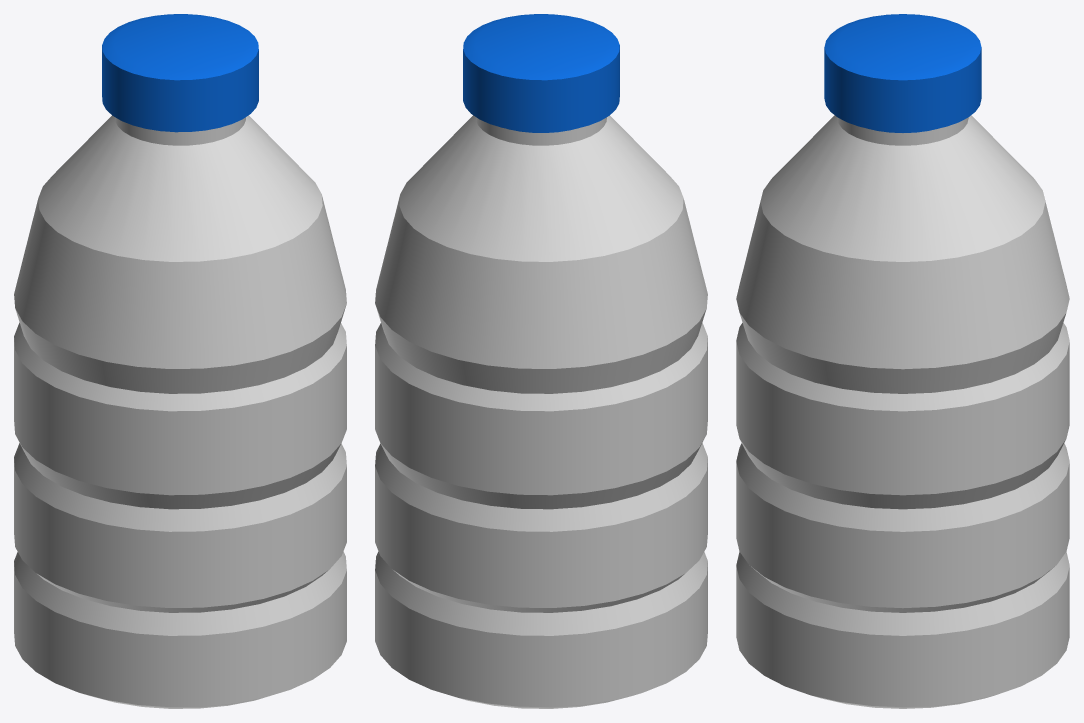
The model's file is PlasticBottle.fbx.
The picture shows the model from 3 angles, left to right: view 1: azimuth 30°, elevation 25°; view 2: azimuth 150°, elevation 25°; view 3: azimuth 270°, elevation 25°; orthographic projection.
Parts seen in each view (by area): view 1: Plastic Bottle; view 2: Plastic Bottle; view 3: Plastic Bottle.
Part boxes in pixels (x1,y1,x2,y2): Plastic Bottle: [14, 14, 346, 708]; Plastic Bottle: [375, 14, 707, 708]; Plastic Bottle: [736, 14, 1069, 708].
Bounding box in the file's own units: 18.92 × 37.74 × 18.92.
